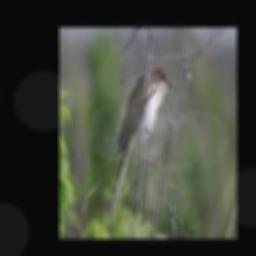Cuckoo: (108, 65, 173, 223)
